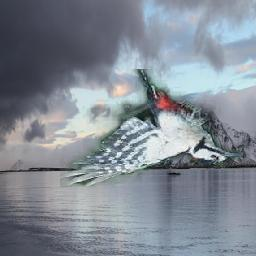Woodpecker: (61, 69, 244, 187)
